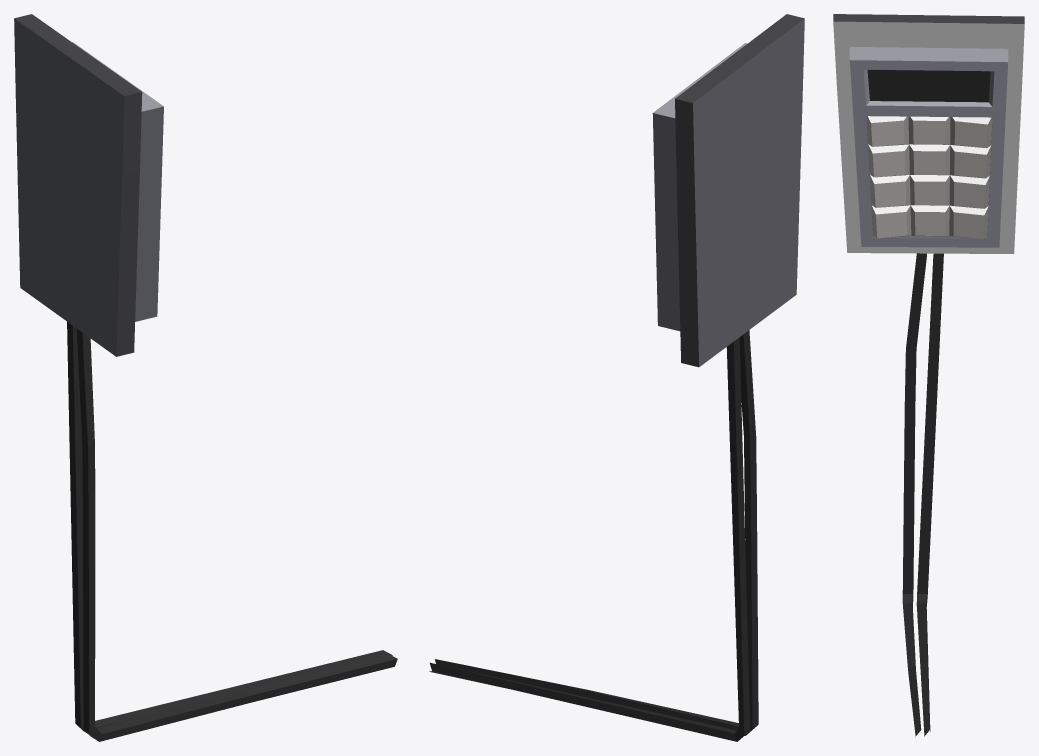
The model's file is Numpad2.glb.
The picture shows the model from 3 angles, left to right: view 1: azimuth 30°, elevation 25°; view 2: azimuth 150°, elevation 25°; view 3: azimuth 270°, elevation 25°; orthographic projection. The views are drawn at different scales.
Visible parts, largest first — view 1: Puzzle06_Console.001; view 2: Puzzle06_Console.001; view 3: Puzzle06_Console.001.
Boxes of the visible parts, bbox=[...] form: Puzzle06_Console.001: bbox=[14, 14, 397, 741]; Puzzle06_Console.001: bbox=[429, 14, 804, 741]; Puzzle06_Console.001: bbox=[833, 14, 1024, 736].
Size of the model in its own units: 1.09 by 2.22 by 0.6486.
1 material, 1 textured.
